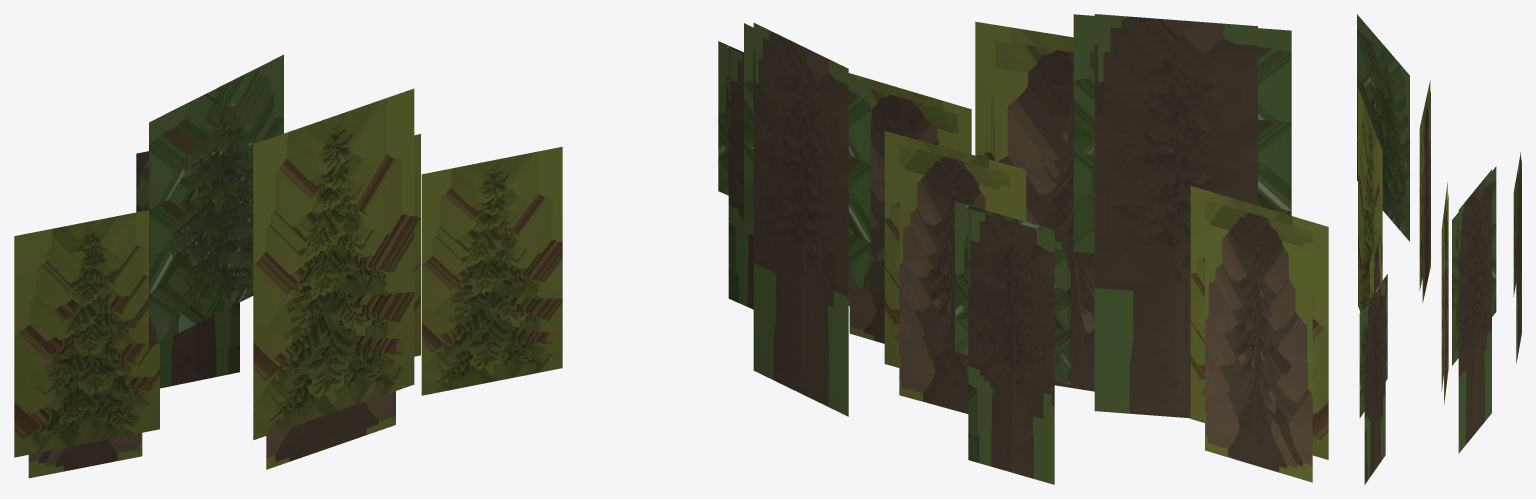
The model's file is trees_01.gltf.
3 views of the same model, side by side, from view 1: azimuth 30°, elevation 25°; view 2: azimuth 150°, elevation 25°; view 3: azimuth 270°, elevation 25° (orthographic). The views are drawn at different scales.
Parts seen in each view (by area): view 1: trees_01; view 2: trees_01; view 3: trees_01.
Boxes of the visible parts, x1,y1,x2,y2 form: trees_01: [14, 54, 562, 478]; trees_01: [718, 14, 1328, 484]; trees_01: [1357, 14, 1521, 484].
Size of the model in its own units: 27.41 by 16.02 by 8.45.
2 materials, 2 textured.
